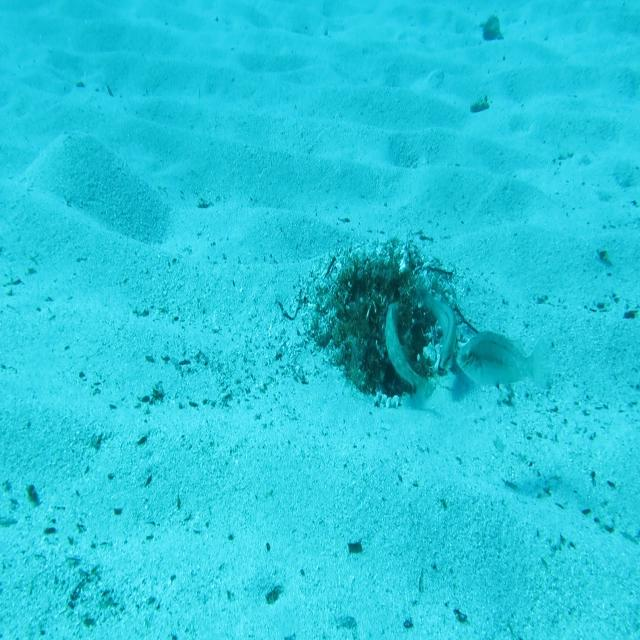DAN_CIRC: (385, 301, 437, 407), (388, 422, 396, 424)
core_nest: (363, 254, 418, 296)
female: (456, 330, 552, 394), (413, 280, 457, 375)
nest: (299, 224, 467, 419)
vegetation: (478, 10, 504, 44), (468, 93, 491, 116), (265, 580, 281, 607), (346, 534, 364, 556), (598, 246, 614, 270)
